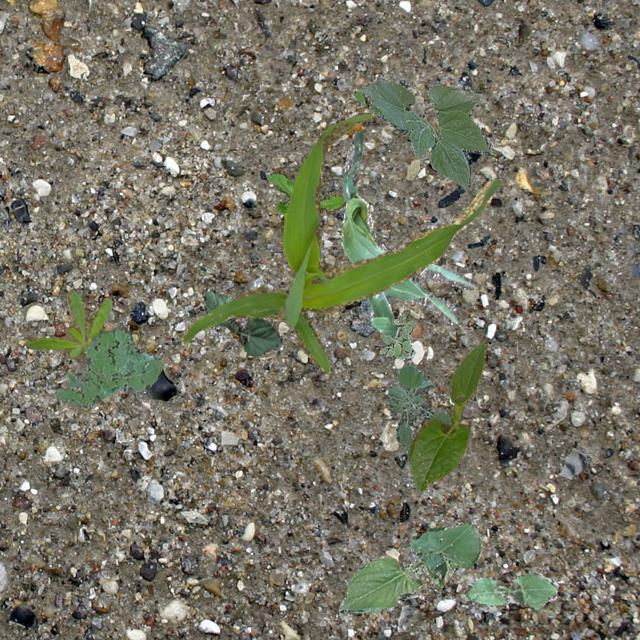crop: (181, 112, 498, 372), (336, 130, 476, 336), (354, 80, 492, 188), (338, 524, 482, 614), (408, 338, 486, 489), (200, 286, 280, 354), (463, 572, 558, 608)
weed: (54, 322, 162, 408), (24, 288, 110, 364), (386, 364, 451, 452), (266, 170, 344, 213), (378, 312, 416, 358)
